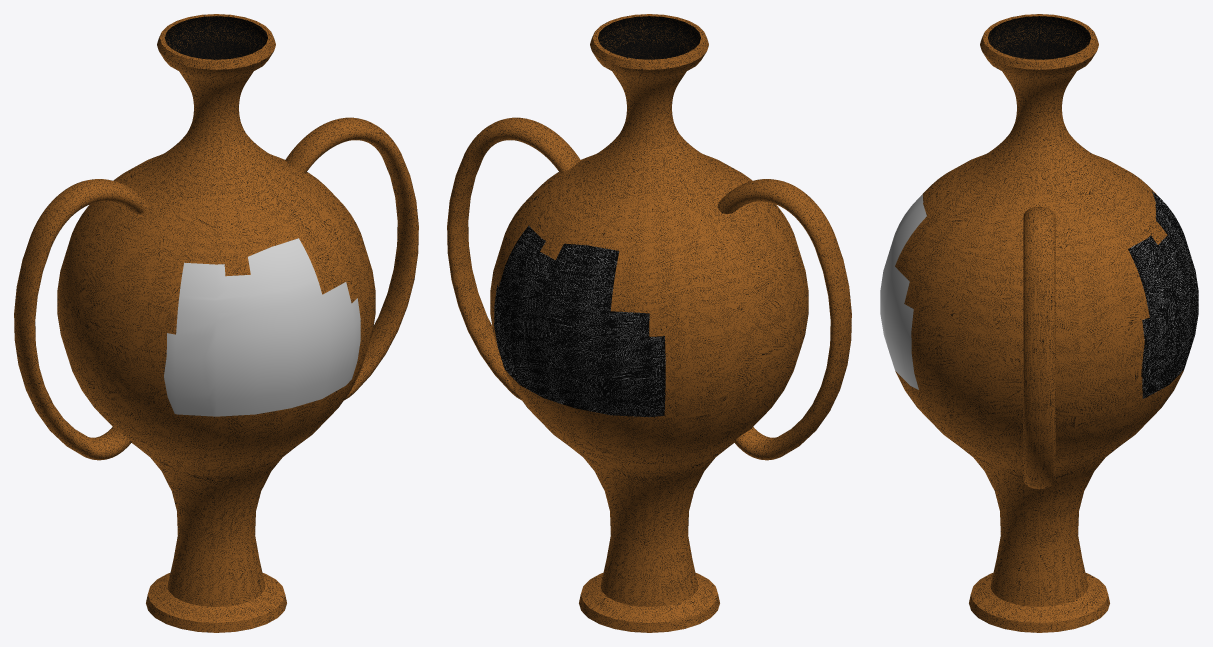
3 renders of one model, left to right at view 1: azimuth 30°, elevation 25°; view 2: azimuth 150°, elevation 25°; view 3: azimuth 270°, elevation 25°, orthographic.
Visible parts, largest first — view 1: mesh1_mesh1-geometry; view 2: mesh1_mesh1-geometry; view 3: mesh1_mesh1-geometry.
Boxes of the visible parts, bbox=[...] form: mesh1_mesh1-geometry: bbox=[14, 14, 418, 632]; mesh1_mesh1-geometry: bbox=[447, 14, 851, 632]; mesh1_mesh1-geometry: bbox=[880, 14, 1198, 632].
Size of the model in its own units: 0.5482 by 0.7447 by 0.3806.
